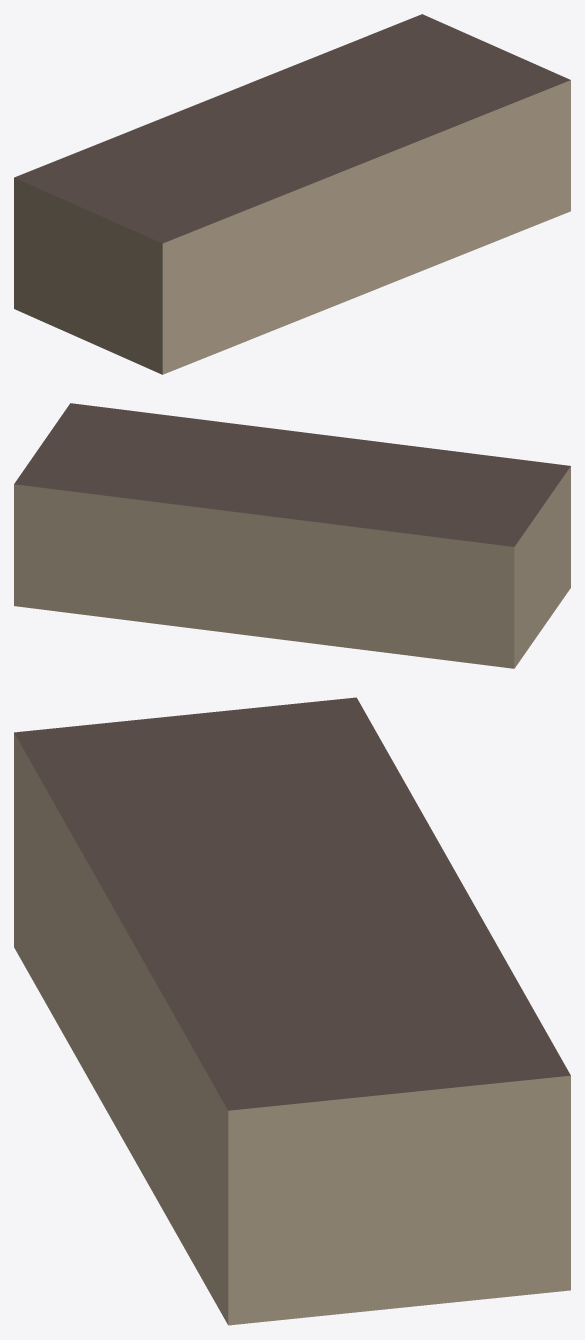
3 renders of one model, top to bottom at view 1: azimuth 30°, elevation 25°; view 2: azimuth 150°, elevation 25°; view 3: azimuth 270°, elevation 25°, orthographic. The views are drawn at different scales.
Visible parts, largest first — view 1: HP-w859078911; view 2: HP-w859078911; view 3: HP-w859078911.
Part boxes in pixels (x1,y1,x2,y2): HP-w859078911: (14,14,570,374); HP-w859078911: (14,403,570,668); HP-w859078911: (14,697,570,1325).
Size of the model in its own units: 37.14 by 9 by 21.15.
